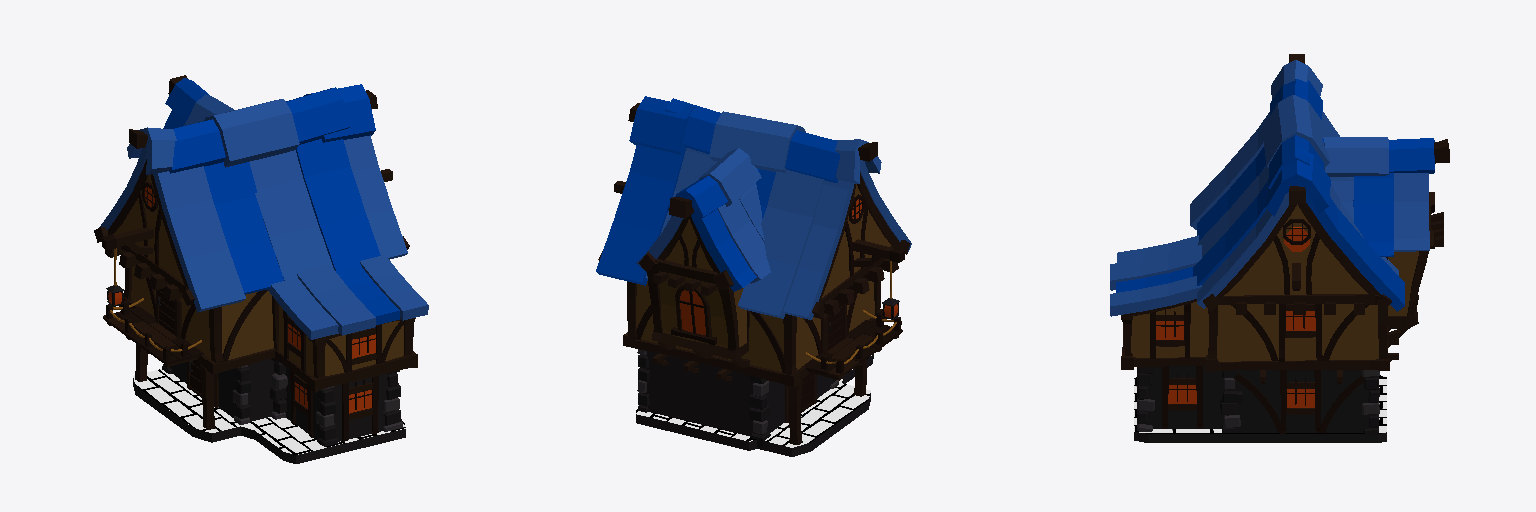
The picture shows the model from 3 angles: view 1: azimuth 30°, elevation 25°; view 2: azimuth 150°, elevation 25°; view 3: azimuth 270°, elevation 25°; orthographic projection.
Parts seen in each view (by area): view 1: Mesheshouse123cube18911, Mesheshouse123cube19011, Mesheshouse123cube09111, Mesheshouse123cube11011, Mesheshouse123cube19611, Mesheshouse123cube05111, Mesheshouse123cube19911, Mesheshouse123cube0011, Mesheshouse123cube12, Mesheshouse123cube11, Mesheshouse123cube01011, Mesheshouse123cube18811 (+11 smaller); view 2: Mesheshouse123cube09111, Mesheshouse123cube18911, Mesheshouse123cube11011, Mesheshouse123cube0011, Mesheshouse123cube19011, Mesheshouse123cube05111, Mesheshouse123cube19911, Mesheshouse123cube19311, Mesheshouse123cube12, Mesheshouse123cube11, Mesheshouse123cube05211, Mesheshouse123cube19411 (+10 smaller); view 3: Mesheshouse123cube11011, Mesheshouse123cube09111, Mesheshouse123cube0011, Mesheshouse123cube19011, Mesheshouse123cube18911, Mesheshouse123cube19611, Mesheshouse123cube05111, Mesheshouse123cube19911, Mesheshouse123cube19311, Mesheshouse123cube18811, Mesheshouse123cube05211, Mesheshouse123cube19411 (+10 smaller).
Boxes of the visible parts, x1=… form: Mesheshouse123cube18911: x1=99, y1=135, x2=407, y2=312; Mesheshouse123cube19011: x1=204, y1=139, x2=380, y2=294; Mesheshouse123cube09111: x1=94, y1=75, x2=417, y2=429; Mesheshouse123cube11011: x1=114, y1=175, x2=403, y2=375; Mesheshouse123cube19611: x1=267, y1=251, x2=428, y2=339; Mesheshouse123cube05111: x1=169, y1=84, x2=375, y2=173; Mesheshouse123cube19911: x1=127, y1=99, x2=299, y2=174; Mesheshouse123cube0011: x1=170, y1=359, x2=396, y2=441; Mesheshouse123cube12: x1=133, y1=369, x2=405, y2=454; Mesheshouse123cube11: x1=133, y1=378, x2=405, y2=463; Mesheshouse123cube01011: x1=162, y1=358, x2=401, y2=446; Mesheshouse123cube18811: x1=283, y1=310, x2=381, y2=441; Mesheshouse123cube09111: x1=598, y1=103, x2=910, y2=444; Mesheshouse123cube18911: x1=645, y1=148, x2=911, y2=319; Mesheshouse123cube11011: x1=636, y1=184, x2=890, y2=371; Mesheshouse123cube0011: x1=643, y1=351, x2=833, y2=436; Mesheshouse123cube19011: x1=596, y1=145, x2=775, y2=285; Mesheshouse123cube05111: x1=629, y1=96, x2=839, y2=182; Mesheshouse123cube19911: x1=709, y1=111, x2=881, y2=183; Mesheshouse123cube19311: x1=636, y1=183, x2=770, y2=283; Mesheshouse123cube12: x1=636, y1=355, x2=871, y2=447; Mesheshouse123cube11: x1=636, y1=354, x2=873, y2=456; Mesheshouse123cube05211: x1=691, y1=209, x2=756, y2=291; Mesheshouse123cube19411: x1=699, y1=148, x2=761, y2=206; Mesheshouse123cube11011: x1=1131, y1=204, x2=1418, y2=361; Mesheshouse123cube09111: x1=1121, y1=54, x2=1449, y2=383; Mesheshouse123cube0011: x1=1140, y1=366, x2=1375, y2=432; Mesheshouse123cube19011: x1=1193, y1=147, x2=1404, y2=311; Mesheshouse123cube18911: x1=1190, y1=111, x2=1398, y2=308; Mesheshouse123cube19611: x1=1110, y1=235, x2=1201, y2=316; Mesheshouse123cube05111: x1=1266, y1=79, x2=1330, y2=216; Mesheshouse123cube19911: x1=1262, y1=60, x2=1329, y2=167; Mesheshouse123cube19311: x1=1330, y1=173, x2=1429, y2=251; Mesheshouse123cube18811: x1=1150, y1=303, x2=1322, y2=433; Mesheshouse123cube05211: x1=1353, y1=173, x2=1393, y2=256; Mesheshouse123cube19411: x1=1324, y1=137, x2=1388, y2=176.
Bounding box in the file's own units: 39.9 × 39.17 × 41.07.
Materials: 13 (1 with a texture image).